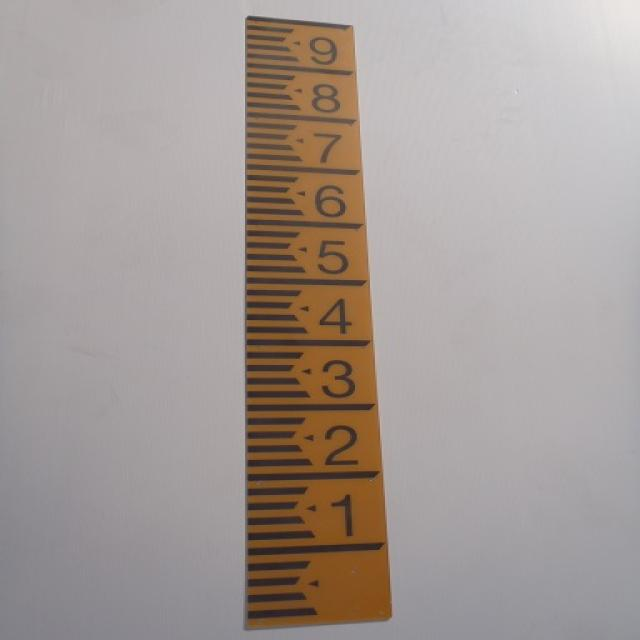staff: (238, 7, 390, 635)
